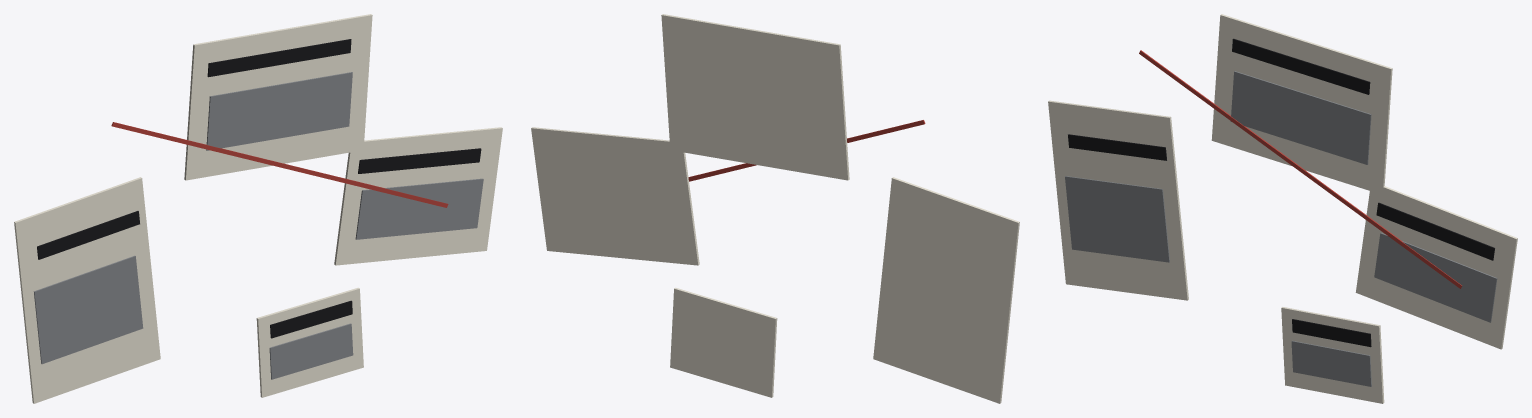
The model's file is GD_NewspaperClippings_01.glb.
3 views of the same model, side by side, from view 1: azimuth 30°, elevation 25°; view 2: azimuth 150°, elevation 25°; view 3: azimuth 330°, elevation 25° (orthographic). The views are drawn at different scales.
Parts seen in each view (by area): view 1: GD_NewspaperClippings_01; view 2: GD_NewspaperClippings_01; view 3: GD_NewspaperClippings_01.
Boxes of the visible parts, box(x1,y1,x2,y2) form: GD_NewspaperClippings_01: box(14, 14, 502, 403); GD_NewspaperClippings_01: box(531, 14, 1019, 403); GD_NewspaperClippings_01: box(1048, 14, 1517, 403).
Size of the model in its own units: 0.7654 by 0.5536 by 0.007.
1 material, 1 textured.
